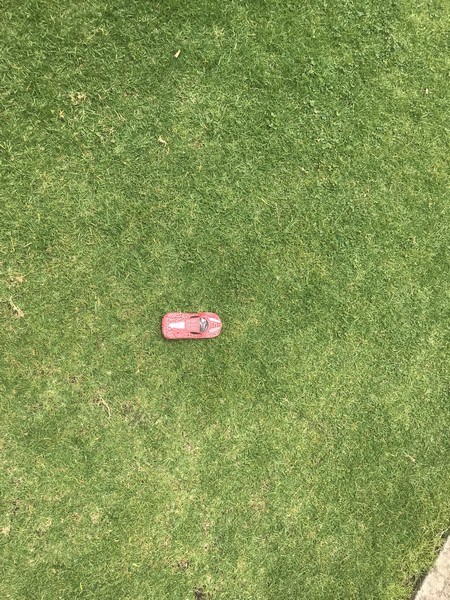RC: (160, 311, 225, 344)
